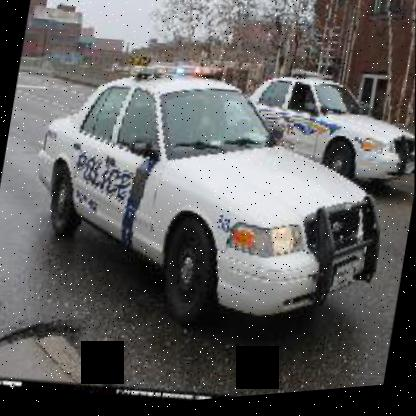emergency: (7, 12, 415, 409)
